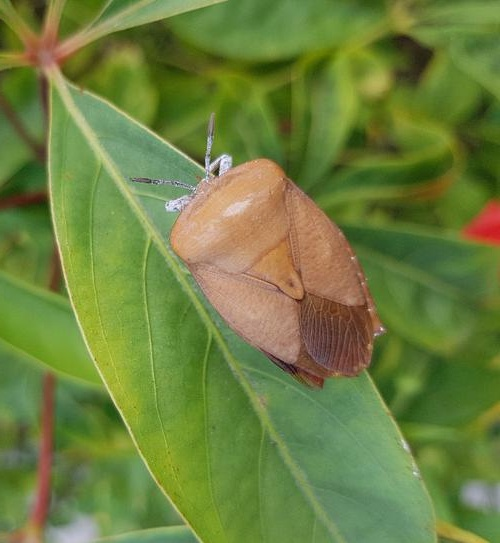Stink_Bug: (195, 133, 356, 383)
